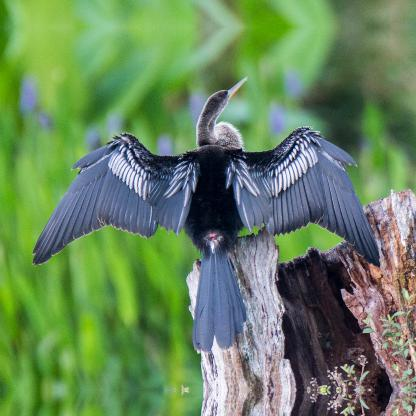Bird: (48, 90, 366, 326)
